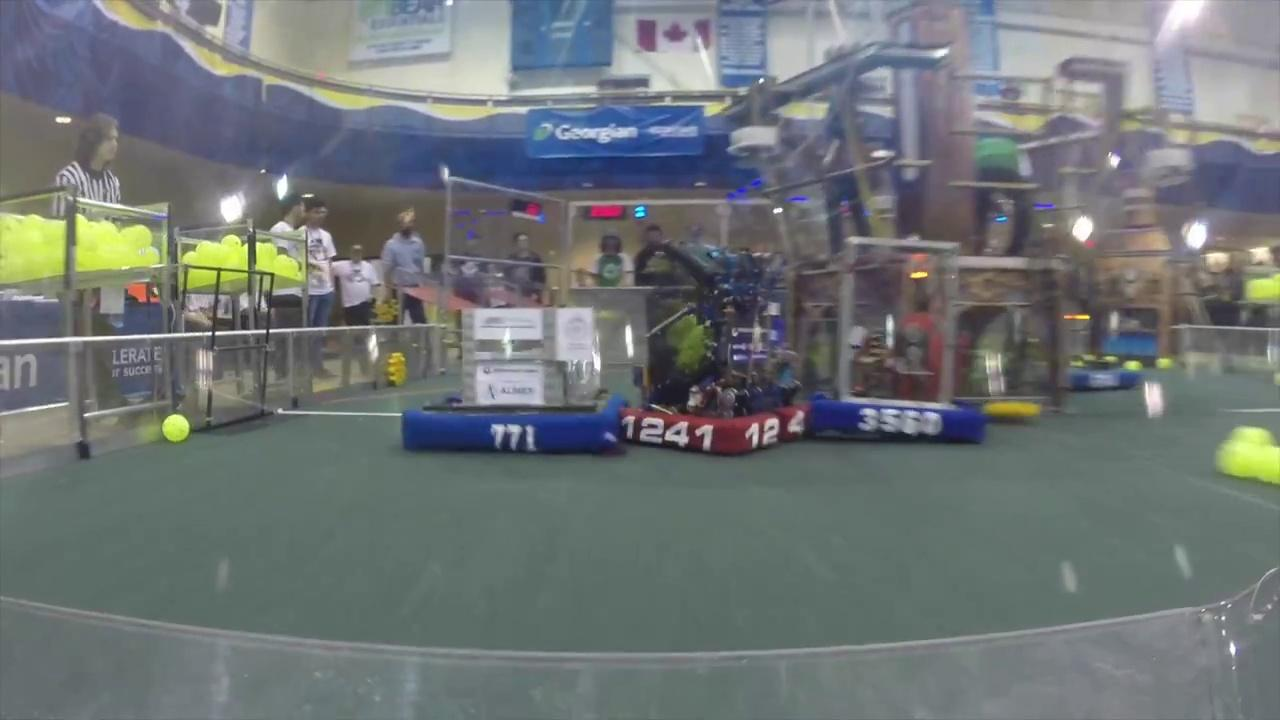robot: (614, 238, 815, 458), (799, 234, 993, 447), (397, 301, 629, 457)
